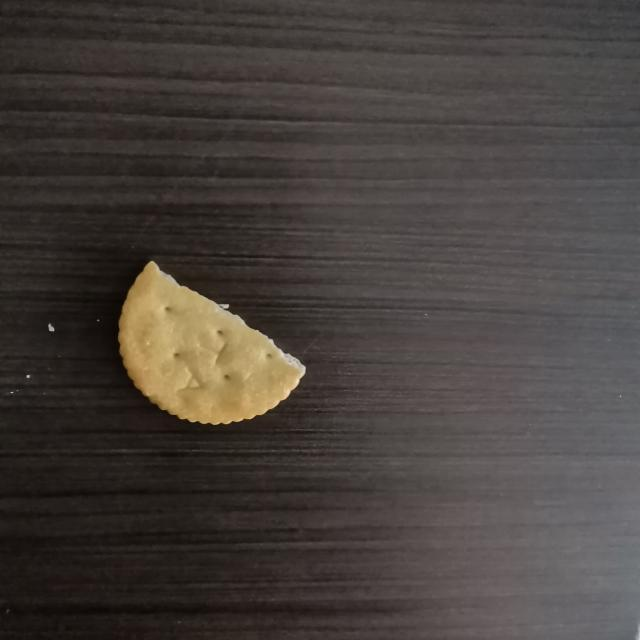Broken: (117, 259, 307, 426)
